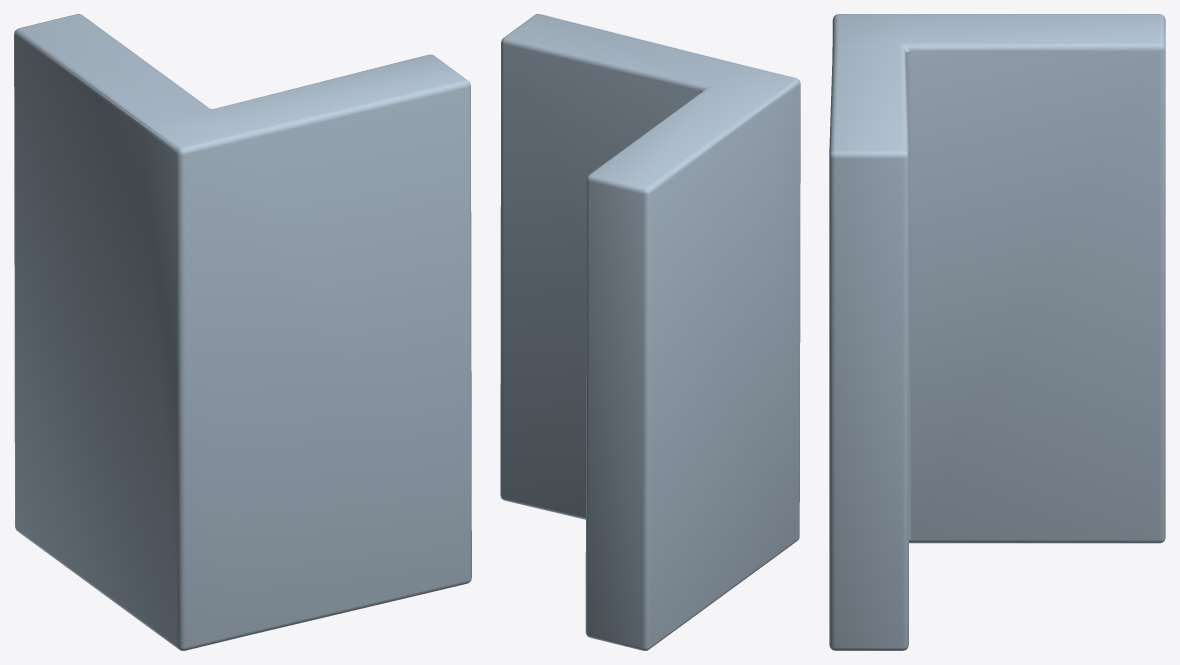
Rendered from köşe_iç_duvar.fbx.
3 renders of one model, left to right at view 1: azimuth 30°, elevation 25°; view 2: azimuth 150°, elevation 25°; view 3: azimuth 270°, elevation 25°, orthographic. The views are drawn at different scales.
Parts seen in each view (by area): view 1: Cube.161; view 2: Cube.161; view 3: Cube.161.
Part boxes in pixels (<box>): Cube.161: <box>14,14,471,650</box>; Cube.161: <box>500,14,800,650</box>; Cube.161: <box>829,14,1165,650</box>.
Size of the model in its own units: 327 by 538 by 328.
